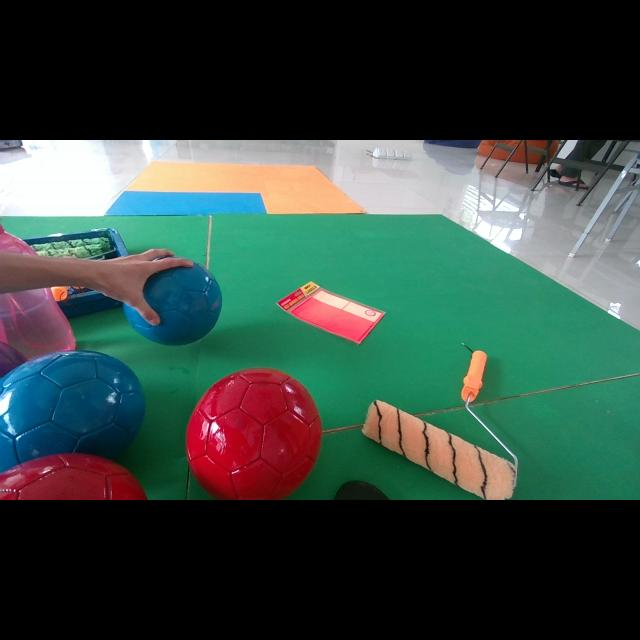B: (0, 350, 145, 471), (124, 264, 222, 345)
P: (0, 341, 28, 377)
R: (186, 368, 321, 499), (0, 455, 146, 500)
